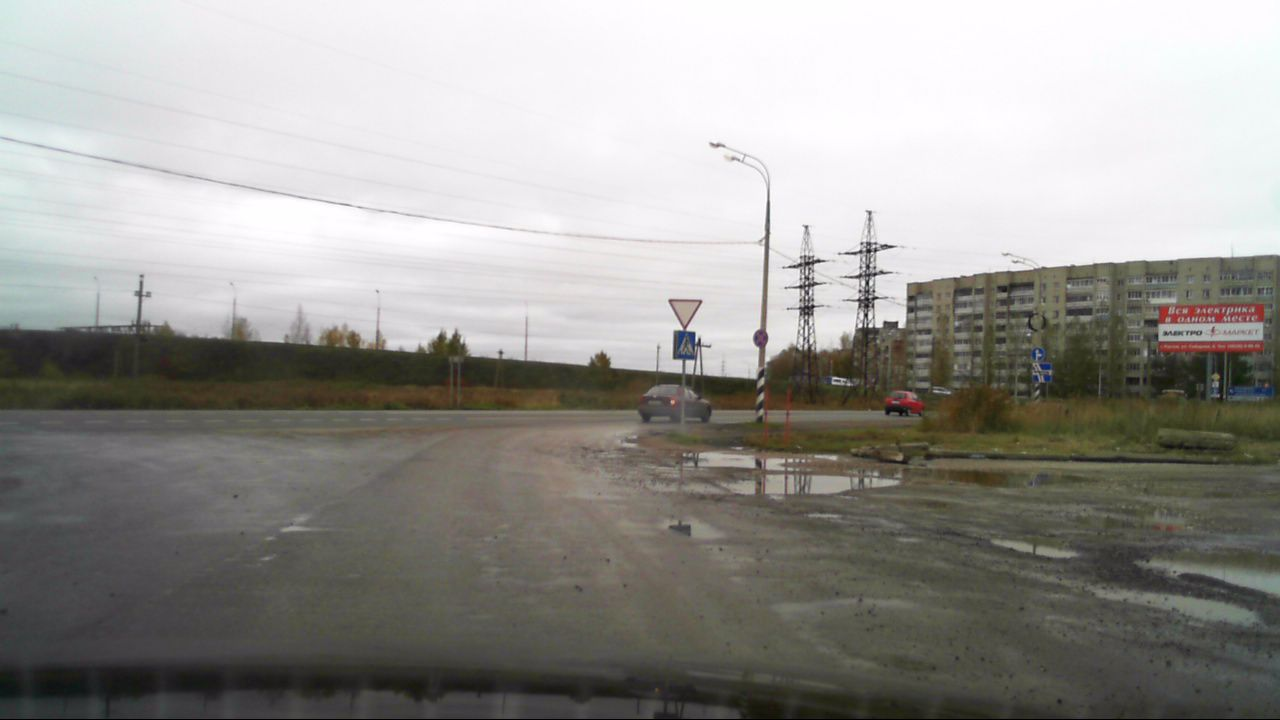No Parking: (752, 328, 769, 348)
